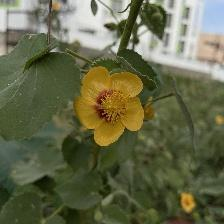indian mallow: (73, 65, 146, 146)
